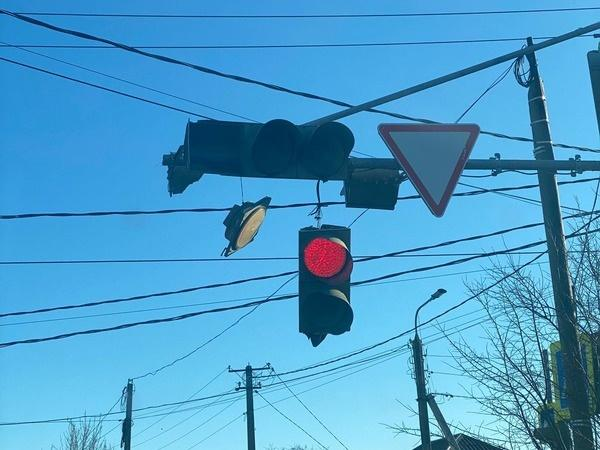off traffic light: (162, 119, 354, 195), (299, 179, 352, 346)
road_sign: (377, 124, 479, 216)
